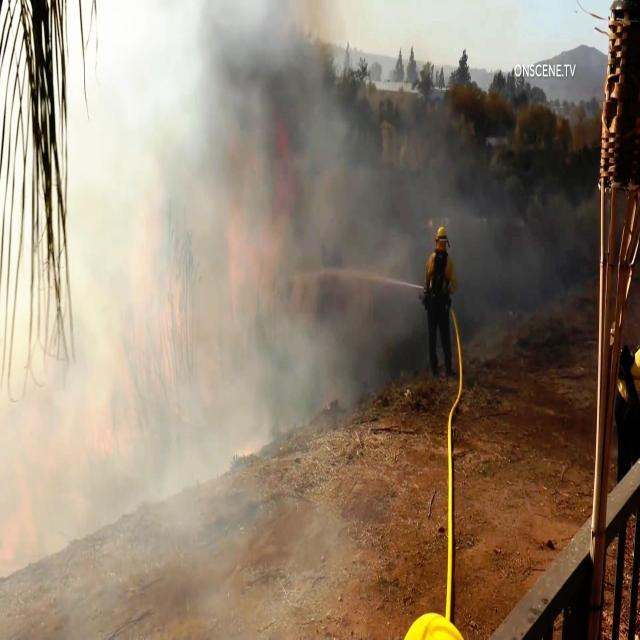Smoke: (138, 10, 302, 232), (3, 474, 156, 640), (310, 119, 467, 238)
